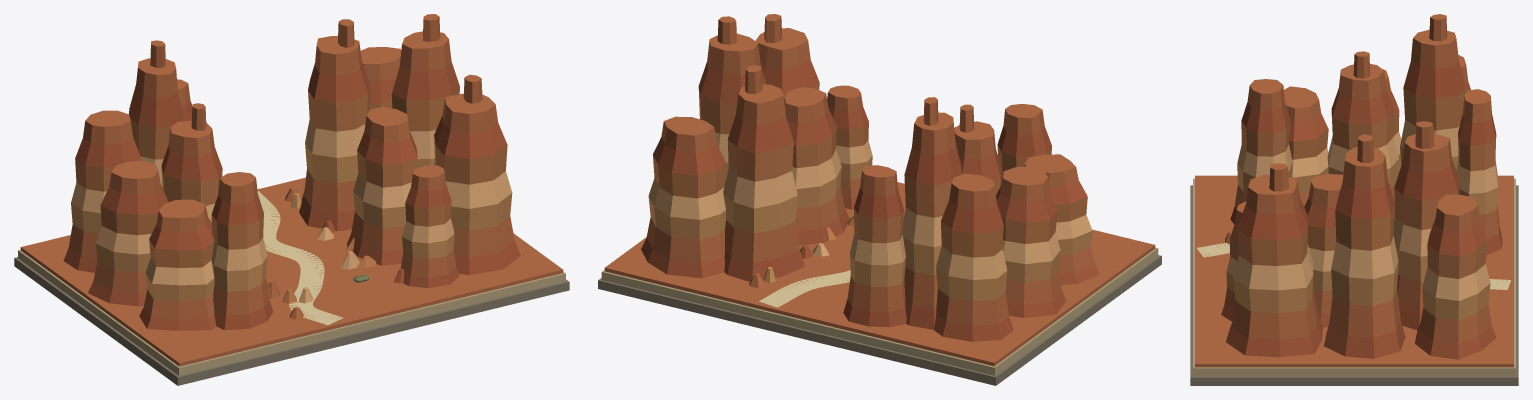
File: charyn.glb
3 renders of one model, left to right at view 1: azimuth 30°, elevation 25°; view 2: azimuth 150°, elevation 25°; view 3: azimuth 270°, elevation 25°, orthographic.
Visible parts, largest first — view 1: Canyon red ochre, Canyon deep ochre, Canyon warm rust, Canyon pale layers, Canyon sandstone, Foundation edging, Steppe earth, Carved pale limestone; view 2: Canyon red ochre, Canyon deep ochre, Canyon warm rust, Canyon pale layers, Canyon sandstone, Foundation edging, Steppe earth, Carved pale limestone; view 3: Canyon red ochre, Canyon deep ochre, Canyon warm rust, Canyon pale layers, Canyon sandstone, Foundation edging, Steppe earth, Carved pale limestone.
Boxes of the visible parts, x1,y1,x2,y2 form: Canyon red ochre: [20, 14, 563, 366]; Canyon deep ochre: [63, 61, 520, 330]; Canyon warm rust: [75, 85, 507, 303]; Canyon pale layers: [71, 119, 512, 303]; Canyon sandstone: [71, 143, 512, 300]; Foundation edging: [14, 257, 569, 385]; Steppe earth: [18, 250, 565, 375]; Carved pale limestone: [257, 191, 342, 325]; Canyon red ochre: [604, 14, 1155, 366]; Canyon deep ochre: [641, 42, 1100, 341]; Canyon warm rust: [653, 83, 1087, 257]; Canyon pale layers: [648, 118, 1092, 279]; Canyon sandstone: [648, 156, 1092, 301]; Foundation edging: [598, 255, 1161, 385]; Steppe earth: [601, 247, 1158, 375]; Carved pale limestone: [759, 270, 850, 307]; Canyon red ochre: [1195, 14, 1513, 367]; Canyon deep ochre: [1221, 61, 1502, 359]; Canyon warm rust: [1230, 88, 1495, 278]; Canyon pale layers: [1226, 120, 1498, 300]; Canyon sandstone: [1226, 147, 1498, 320]; Foundation edging: [1190, 185, 1518, 385]; Steppe earth: [1193, 178, 1515, 376]; Carved pale limestone: [1197, 243, 1510, 289].
Bounding box in the file's own units: 8.3 × 4.59 × 6.
